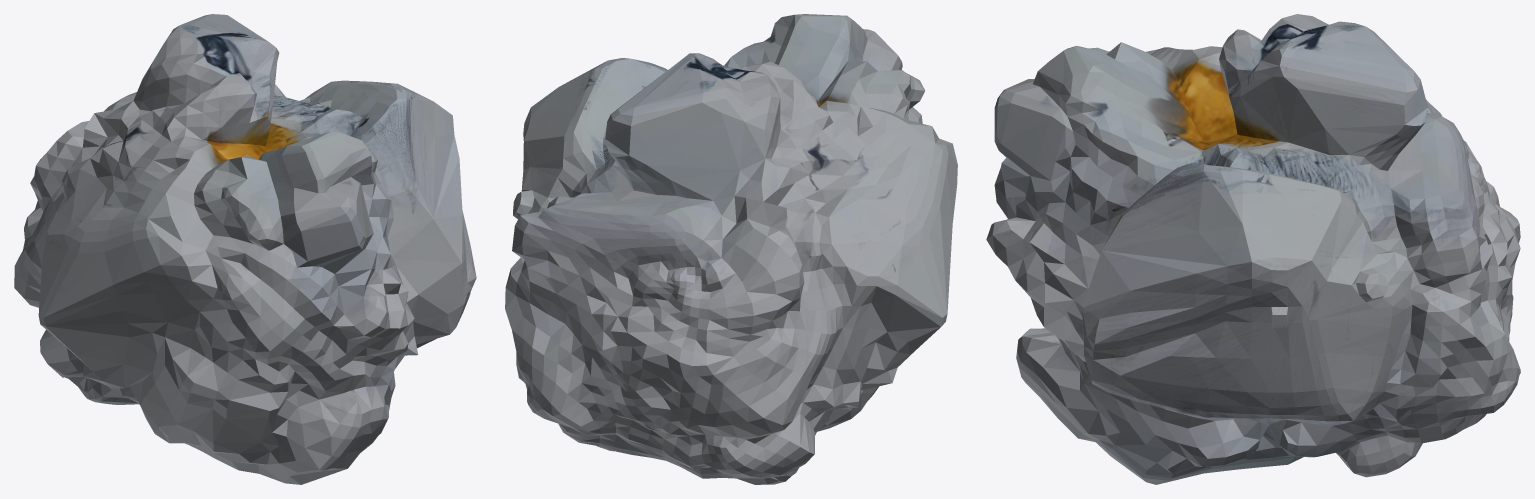
Rendered from magnetite_001.glb.
3 views of the same model, side by side, from view 1: azimuth 30°, elevation 25°; view 2: azimuth 150°, elevation 25°; view 3: azimuth 270°, elevation 25° (orthographic). The views are drawn at different scales.
Parts seen in each view (by area): view 1: tripo_node_0dd05a8d-a6e5-4ad9-a4ba-6a8d9225ebb5; view 2: tripo_node_0dd05a8d-a6e5-4ad9-a4ba-6a8d9225ebb5; view 3: tripo_node_0dd05a8d-a6e5-4ad9-a4ba-6a8d9225ebb5.
Part boxes in pixels (bbox=[...]): tripo_node_0dd05a8d-a6e5-4ad9-a4ba-6a8d9225ebb5: bbox=[14, 14, 476, 484]; tripo_node_0dd05a8d-a6e5-4ad9-a4ba-6a8d9225ebb5: bbox=[505, 14, 957, 484]; tripo_node_0dd05a8d-a6e5-4ad9-a4ba-6a8d9225ebb5: bbox=[986, 14, 1520, 484].
Bounding box in the file's own units: 0.9215 × 0.8302 × 0.947.
1 material, 1 textured.
